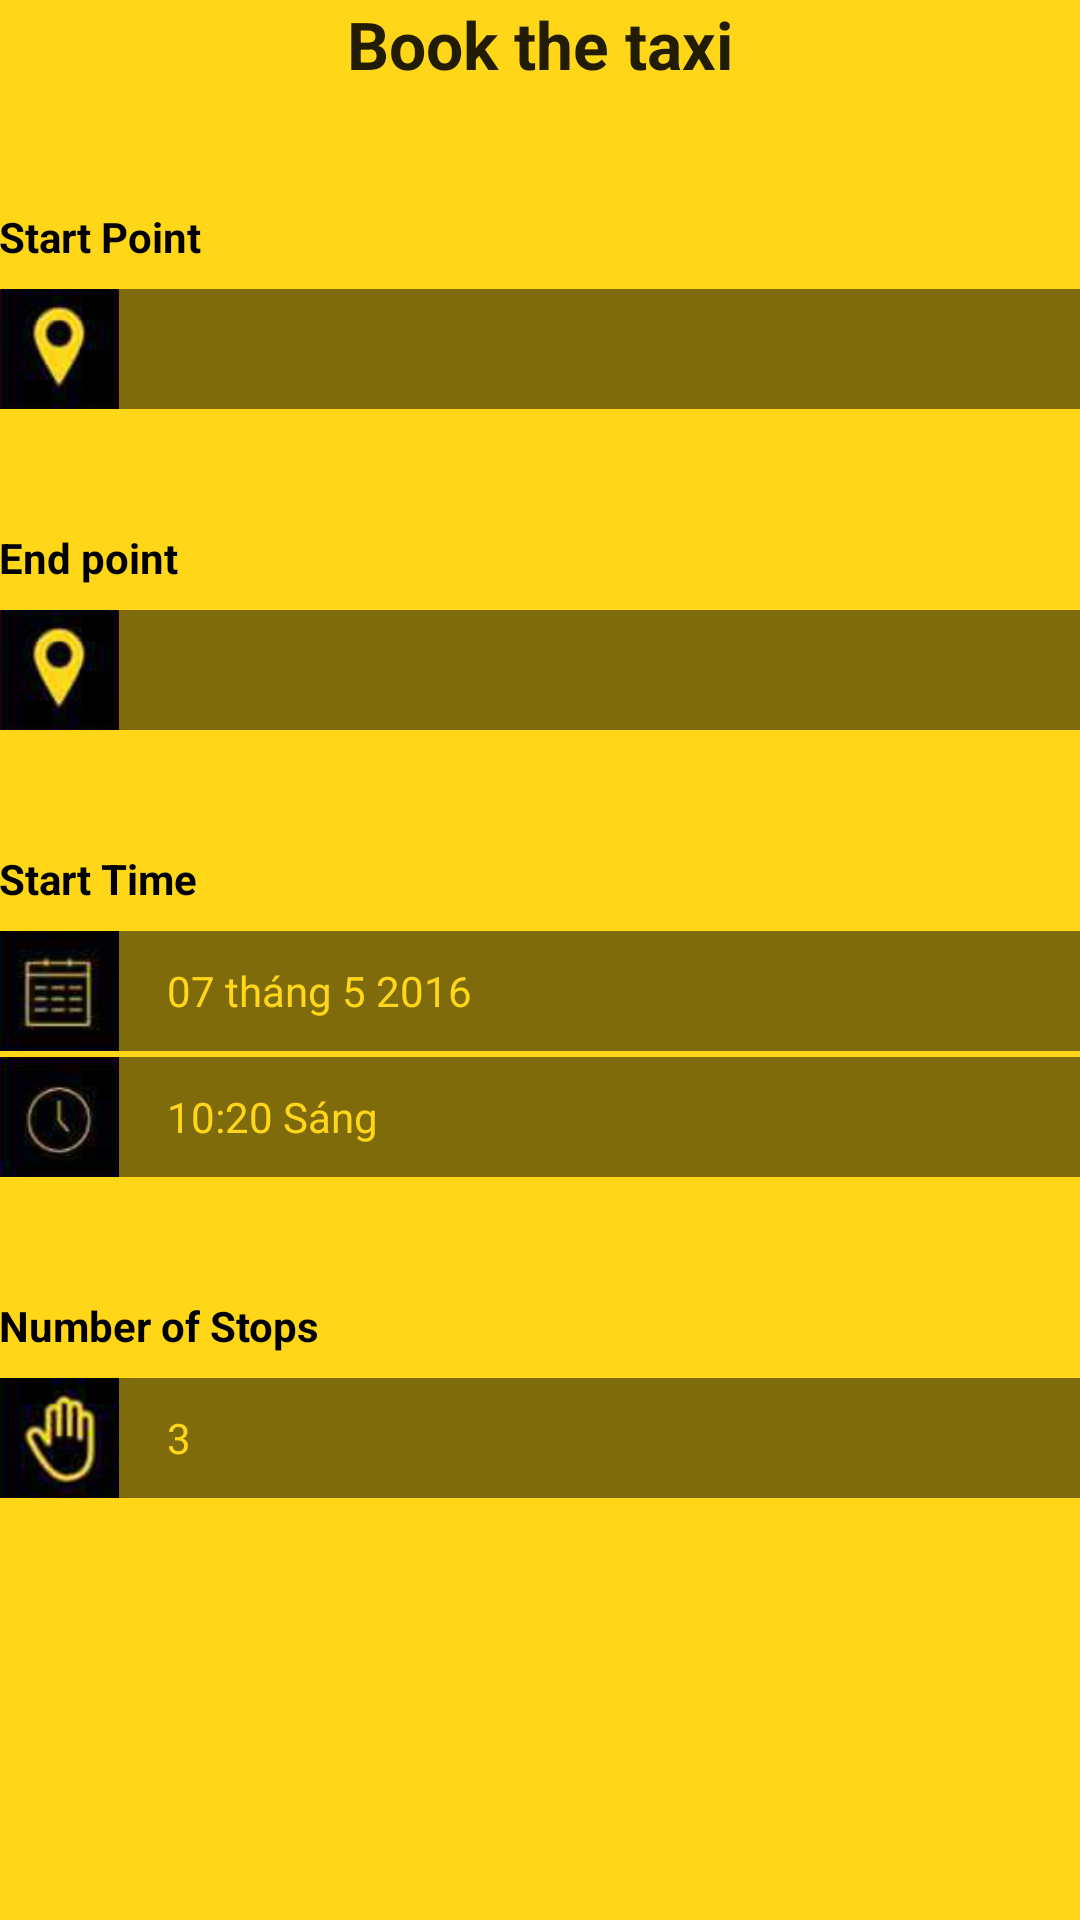

Icons on this 1080w x 1920h Android screen, each with the point to tap as (x,y):
calendar: (59,991)
clock: (59,1117)
